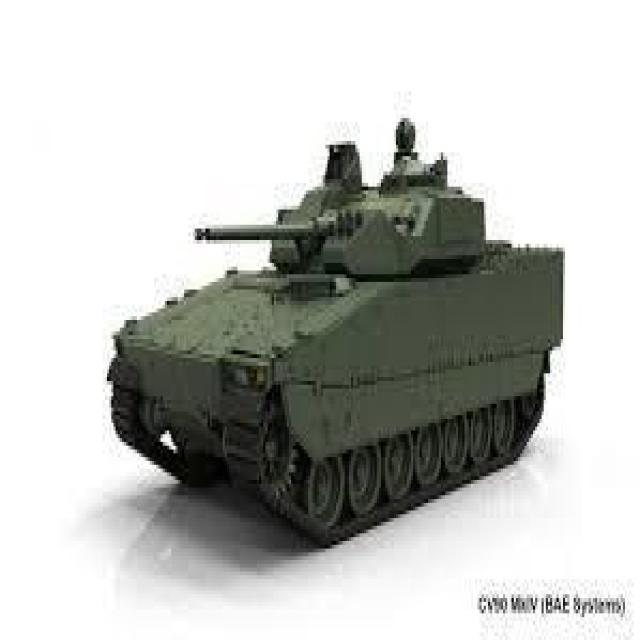Tanks: (38, 42, 566, 571)
